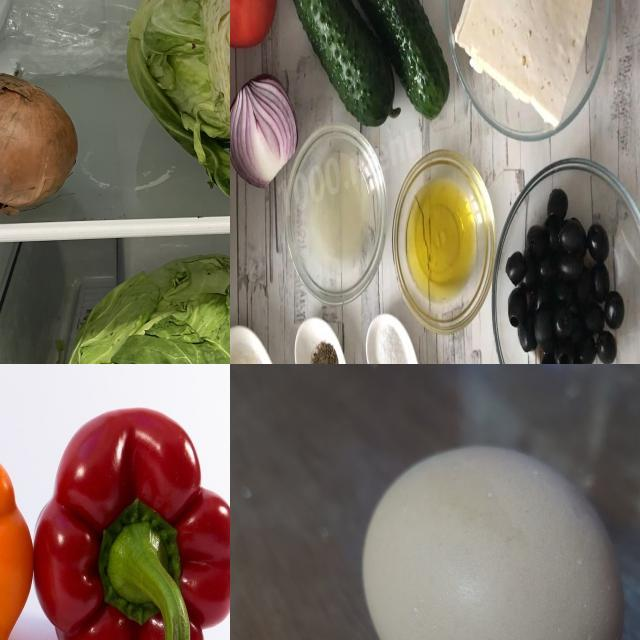bell_pepper: (36, 412, 231, 640)
cabbage: (39, 248, 231, 365), (123, 1, 231, 195)
cucumber: (351, 1, 422, 49), (287, 1, 350, 52)
egg: (360, 438, 632, 640)
onion: (1, 72, 83, 215), (231, 78, 291, 182)
tomato: (231, 1, 272, 39)
